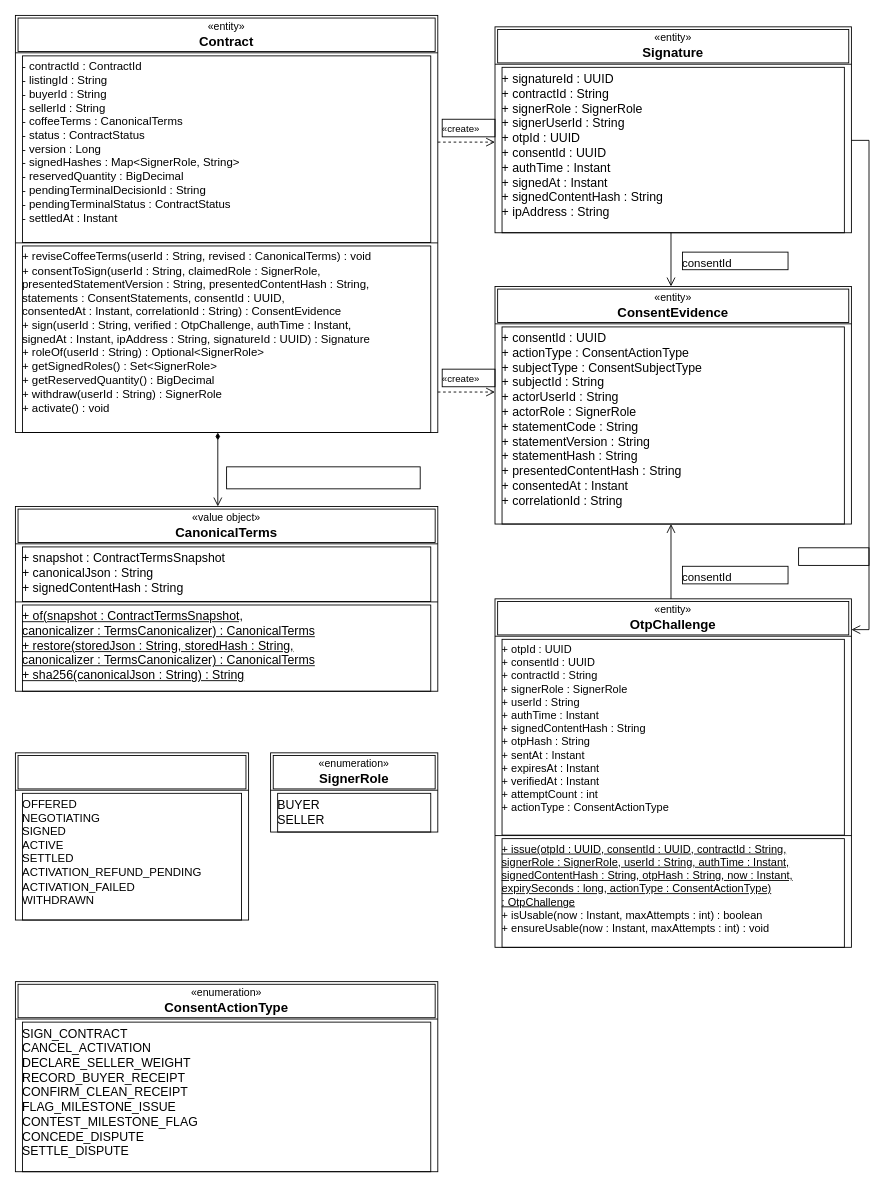
This 893x1187 diagram has some shape labels left out. The shapes that lost their labels are listed below. From the top down, each one's box as (x1, y1, x2, y2) in pixels, then its label:
(226, 466, 420, 489): coffeeTerms 0..1
(798, 547, 869, 565): otpId
(17, 755, 246, 789): «enumeration» ContractStatus
